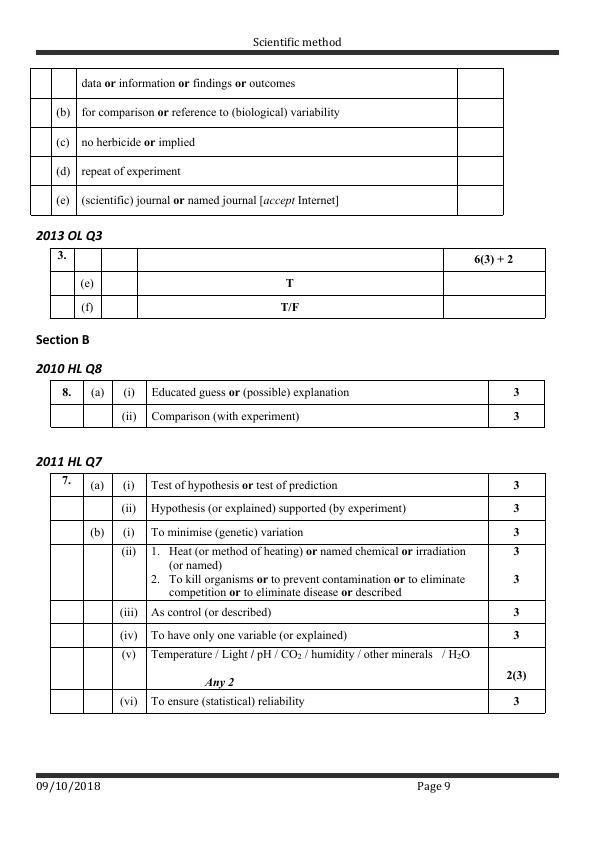table: (46, 469, 554, 719), (25, 64, 511, 221), (46, 245, 552, 325), (47, 377, 550, 434)
text: (31, 451, 104, 470), (31, 357, 104, 375), (31, 228, 103, 244), (31, 331, 96, 347)
